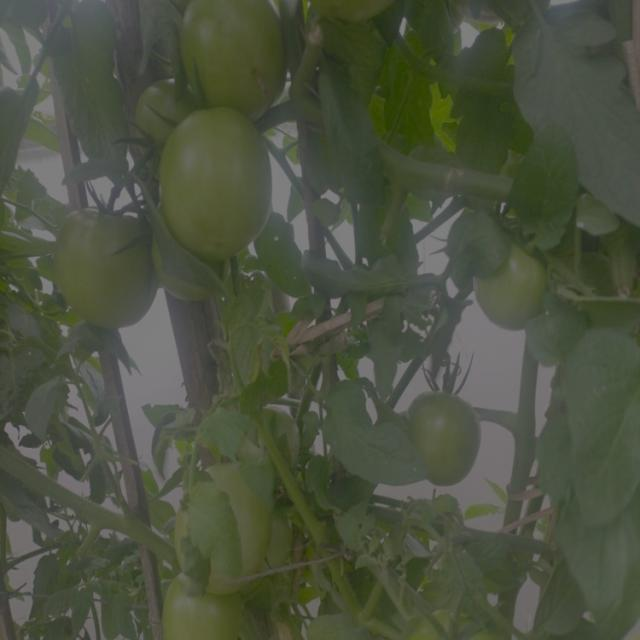tomato: (50, 189, 166, 335), (161, 105, 271, 250), (167, 467, 276, 595), (177, 1, 293, 113), (405, 372, 485, 493), (464, 233, 555, 326), (151, 570, 262, 640), (228, 404, 303, 468), (129, 71, 188, 139)
